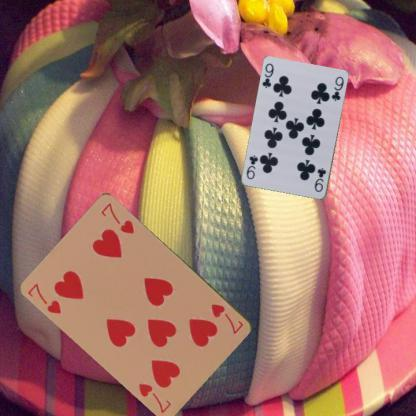7h: (25, 280, 63, 315), (209, 301, 245, 336)
9c: (312, 166, 328, 194), (260, 61, 275, 90)
